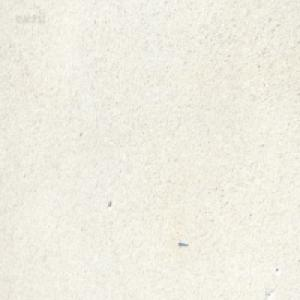Nail: (177, 238, 188, 246)
